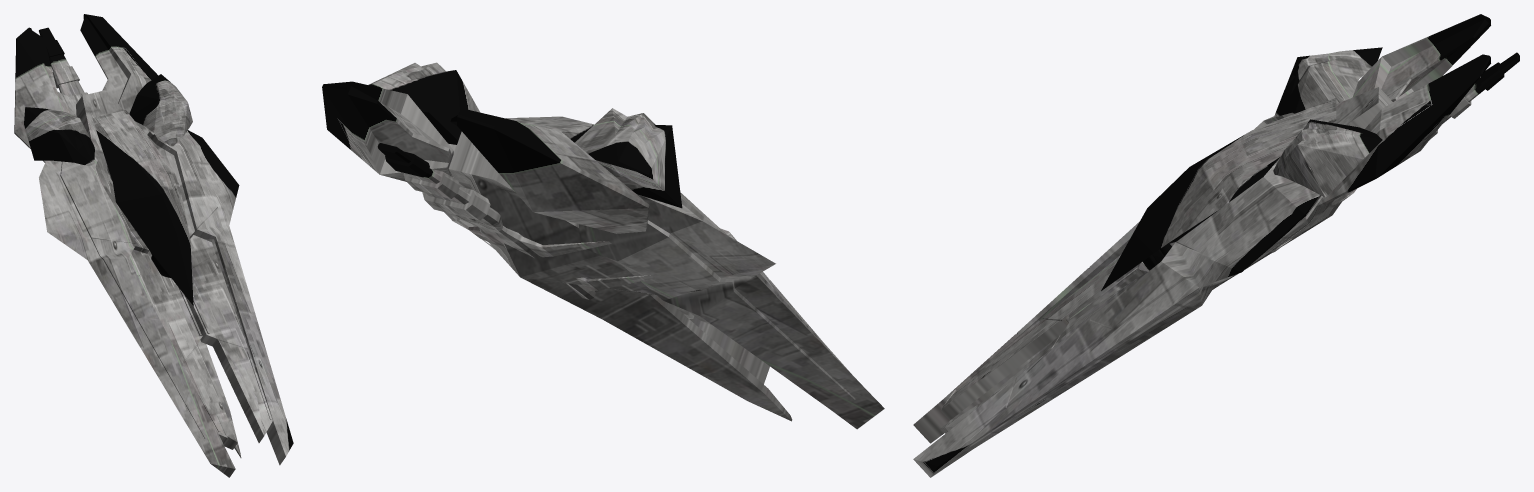
The model's file is wingclose.fbx.
3 views of the same model, side by side, from view 1: azimuth 30°, elevation 25°; view 2: azimuth 150°, elevation 25°; view 3: azimuth 270°, elevation 25° (orthographic). The views are drawn at different scales.
Parts seen in each view (by area): view 1: hane:hane:polySurface20; view 2: hane:hane:polySurface20; view 3: hane:hane:polySurface20.
Boxes of the visible parts, <box> form: hane:hane:polySurface20: <box>14,14,293,477</box>; hane:hane:polySurface20: <box>322,62,884,429</box>; hane:hane:polySurface20: <box>913,14,1519,477</box>.
Size of the model in its own units: 3.97 by 6.03 by 7.77.
Materials: 1 (1 with a texture image).
